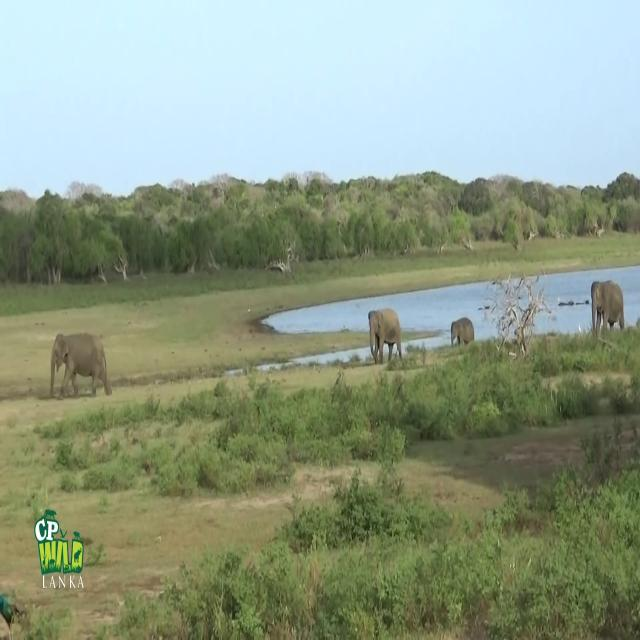Elephant: (50, 332, 112, 399), (591, 280, 624, 338), (368, 308, 402, 364), (450, 316, 474, 348)
